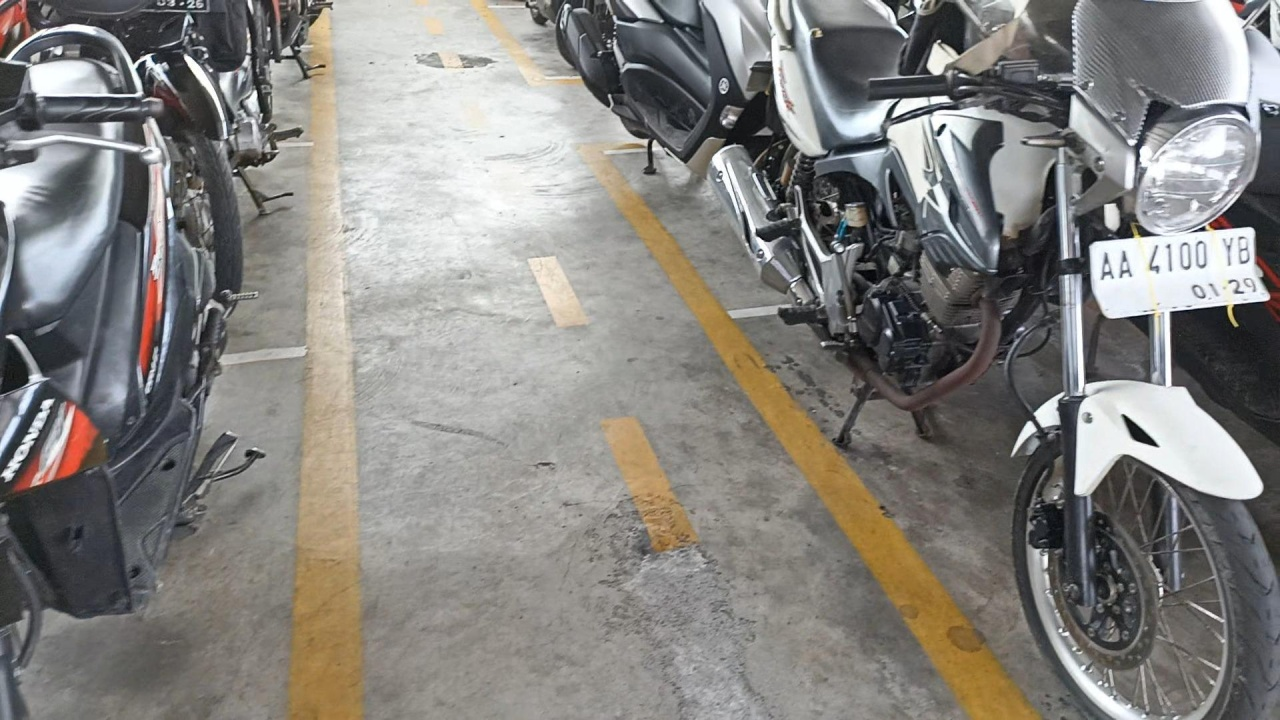plate: (1090, 227, 1270, 319)
